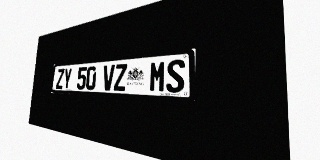0: (85, 66, 97, 90)
5: (76, 67, 87, 90)
M: (149, 60, 166, 92)
S: (166, 59, 185, 93)
V: (102, 65, 115, 91)
Y: (63, 68, 72, 89)
Z: (114, 64, 127, 91), (56, 69, 64, 89)
